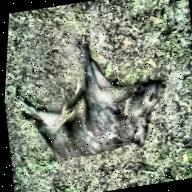boar: (11, 39, 184, 170)
